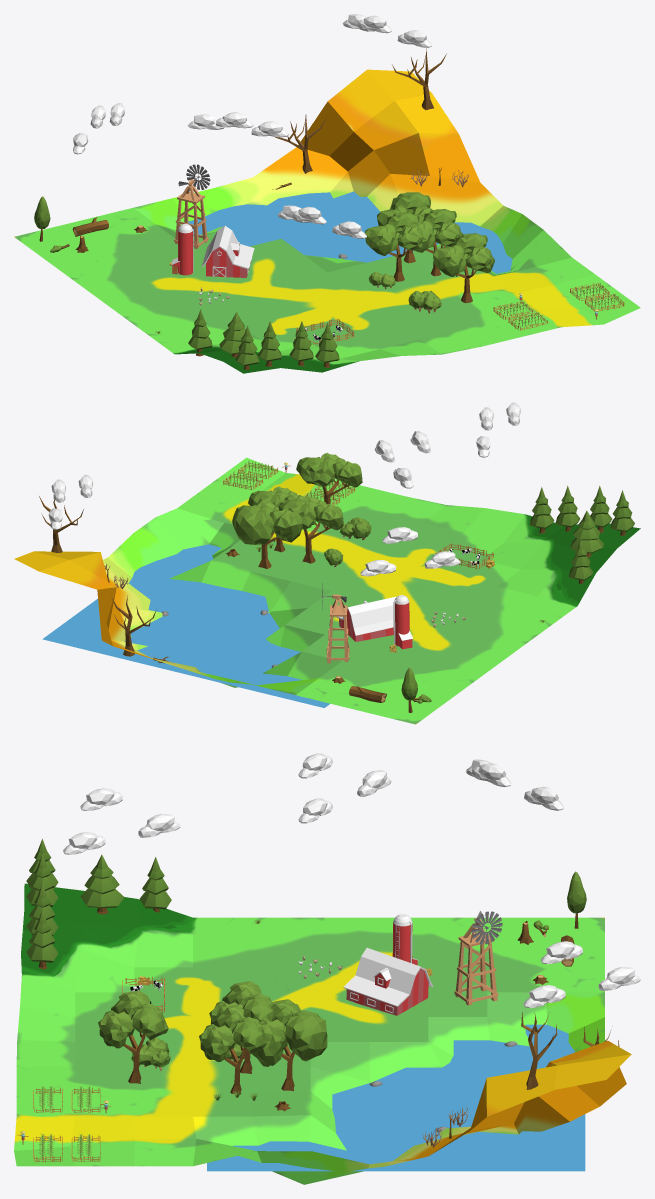
Rendered from farm.glb.
The picture shows the model from 3 angles, top to bottom: view 1: azimuth 30°, elevation 25°; view 2: azimuth 150°, elevation 25°; view 3: azimuth 270°, elevation 25°; orthographic projection. The views are drawn at different scales.
Visible parts, largest first — view 1: Grid, Plane, Tree_average_regular_Cube.003, Tree_average_regular_Cube.002, Tree_average_regular_Cube.001, Clouts.002, Object_28, Object_18, Tree_average_lush_Cube.004, Object_31, Clouts.001, Clouts (+10 smaller); view 2: Grid, Plane, Tree_average_lush_Cube.004, Tree_average_regular_Cube.003, Tree_average_regular_Cube.002, Object_28, Clouts.003, Clouts.002, Object_31, Object_18, Tree_Spruce_tiny_02_Cylinder.014, Clouts.001 (+9 smaller); view 3: Grid, Plane, Tree_average_lush_Cube.004, Tree_average_regular_Cube.003, Object_28, Tree_average_regular_Cube.001, Object_18, Clouts.001, Clouts, Clouts.002, Tree_average_regular_Cube.002, Tree_Spruce_tiny_02_Cylinder.014 (+11 smaller).
Boxes of the visible parts, bbox=[...] form: Grid: bbox=[14, 69, 640, 373]; Plane: bbox=[188, 191, 512, 273]; Tree_average_regular_Cube.003: bbox=[433, 233, 494, 303]; Tree_average_regular_Cube.002: bbox=[365, 212, 423, 281]; Tree_average_regular_Cube.001: bbox=[402, 209, 463, 276]; Clouts.002: bbox=[187, 112, 288, 137]; Object_28: bbox=[193, 226, 254, 277]; Object_18: bbox=[174, 179, 208, 248]; Tree_average_lush_Cube.004: bbox=[377, 192, 432, 263]; Object_31: bbox=[172, 231, 250, 277]; Clouts.001: bbox=[277, 205, 366, 238]; Clouts: bbox=[342, 14, 432, 47]; Grid: bbox=[14, 457, 640, 724]; Plane: bbox=[42, 544, 329, 707]; Tree_average_lush_Cube.004: bbox=[232, 500, 302, 568]; Tree_average_regular_Cube.003: bbox=[296, 452, 362, 504]; Tree_average_regular_Cube.002: bbox=[278, 495, 343, 563]; Object_28: bbox=[336, 596, 396, 635]; Clouts.003: bbox=[360, 527, 460, 576]; Clouts.002: bbox=[374, 431, 430, 488]; Object_31: bbox=[341, 602, 412, 649]; Object_18: bbox=[326, 594, 349, 663]; Tree_Spruce_tiny_02_Cylinder.014: bbox=[570, 510, 604, 557]; Clouts.001: bbox=[476, 402, 520, 457]; Grid: bbox=[14, 883, 631, 1184]; Plane: bbox=[207, 1024, 585, 1171]; Tree_average_lush_Cube.004: bbox=[252, 999, 327, 1091]; Tree_average_regular_Cube.003: bbox=[98, 990, 168, 1083]; Object_28: bbox=[343, 924, 433, 1013]; Tree_average_regular_Cube.001: bbox=[199, 1004, 267, 1094]; Object_18: bbox=[454, 918, 498, 1005]; Clouts.001: bbox=[63, 788, 180, 854]; Clouts: bbox=[523, 941, 640, 1007]; Clouts.002: bbox=[298, 753, 391, 823]; Tree_average_regular_Cube.002: bbox=[209, 981, 273, 1073]; Tree_Spruce_tiny_02_Cylinder.014: bbox=[80, 854, 124, 914].
Bounding box in the file's own units: 102 × 54.35 × 107.
Materials: 27 (2 with a texture image).
